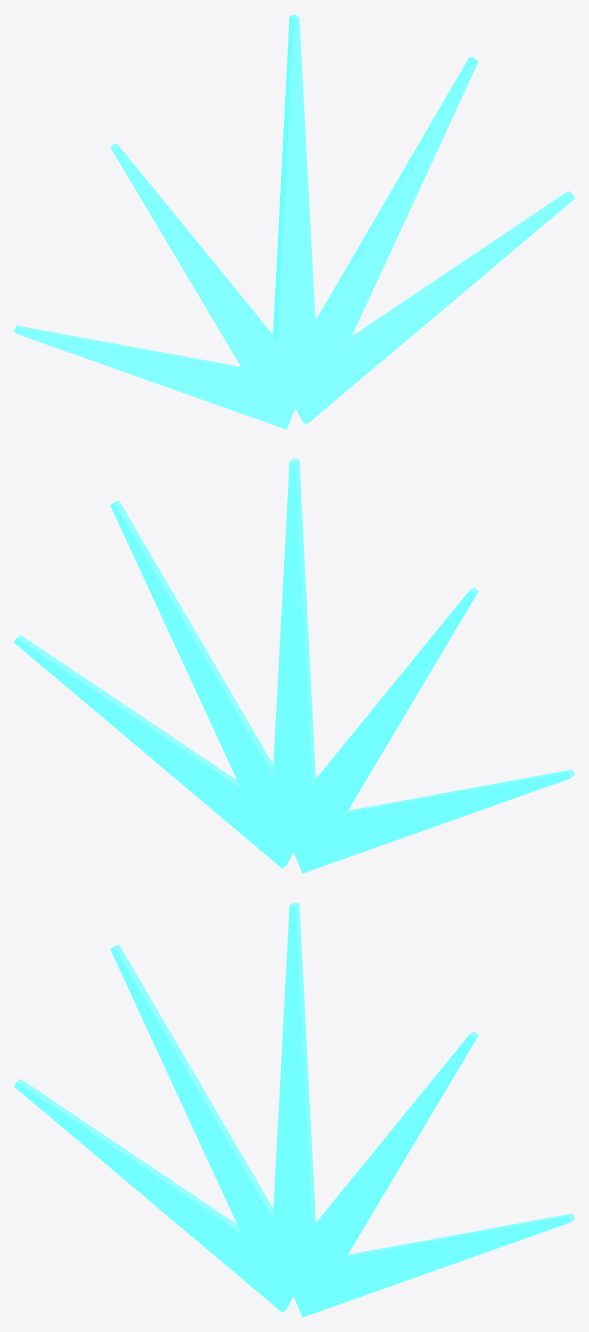
File: dc_glitch_fan.glb
The picture shows the model from 3 angles, top to bottom: view 1: azimuth 30°, elevation 25°; view 2: azimuth 150°, elevation 25°; view 3: azimuth 330°, elevation 25°; orthographic projection.
Visible parts, largest first — view 1: part.dc_glitch_fan; view 2: part.dc_glitch_fan; view 3: part.dc_glitch_fan.
Boxes of the visible parts, x1,y1,x2,y2 form: part.dc_glitch_fan: (14, 14, 574, 429); part.dc_glitch_fan: (14, 458, 574, 873); part.dc_glitch_fan: (14, 902, 574, 1317).
Size of the model in its own units: 0.9027 by 0.6337 by 0.012.
